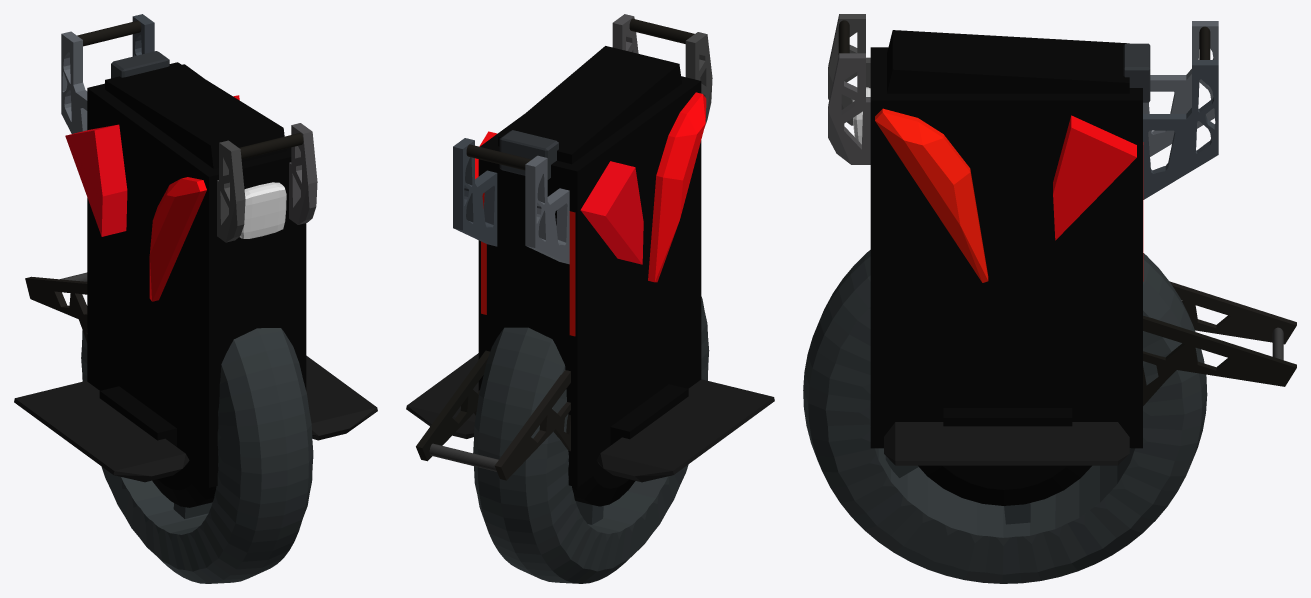
Rendered from lynx10 (2).glb.
3 renders of one model, left to right at view 1: azimuth 30°, elevation 25°; view 2: azimuth 150°, elevation 25°; view 3: azimuth 270°, elevation 25°, orthographic. The views are drawn at different scales.
Visible parts, largest first — view 1: Куб, Wheel, Куб.001, Куб.018, Куб.022, Куб.024, Куб.021, Куб.007, Куб.006, Куб.004, Headlight, Куб.008 (+5 smaller); view 2: Куб, Wheel, Куб.001, Куб.018, Куб.024, Куб.022, Куб.004, Куб.002, Куб.008, Куб.009, Куб.021, Куб.019 (+7 smaller); view 3: Куб, Wheel, Куб.001, Куб.021, Куб.025, Куб.023, Куб.009, Куб.002, Куб.006, Куб.008, Куб.004, Куб.020 (+2 smaller).
Part boxes in pixels (bbox=[...]): Куб: bbox=[87, 64, 306, 487]; Wheel: bbox=[81, 306, 313, 583]; Куб.001: bbox=[105, 62, 286, 168]; Куб.018: bbox=[14, 381, 189, 482]; Куб.022: bbox=[65, 124, 127, 236]; Куб.024: bbox=[149, 177, 206, 301]; Куб.021: bbox=[306, 355, 377, 440]; Куб.007: bbox=[217, 140, 245, 242]; Куб.006: bbox=[289, 123, 317, 224]; Куб.004: bbox=[61, 31, 87, 133]; Headlight: bbox=[240, 182, 286, 238]; Куб.008: bbox=[25, 276, 87, 342]; Куб: bbox=[478, 76, 701, 487]; Wheel: bbox=[473, 296, 709, 583]; Куб.001: bbox=[498, 46, 681, 164]; Куб.018: bbox=[596, 379, 774, 482]; Куб.024: bbox=[648, 92, 706, 282]; Куб.022: bbox=[580, 161, 643, 264]; Куб.004: bbox=[525, 155, 569, 264]; Куб.002: bbox=[453, 138, 497, 246]; Куб.008: bbox=[495, 370, 570, 480]; Куб.009: bbox=[416, 350, 489, 461]; Куб.021: bbox=[406, 353, 478, 438]; Куб.019: bbox=[610, 384, 688, 445]; Куб: bbox=[870, 47, 1142, 448]; Wheel: bbox=[803, 250, 1207, 583]; Куб.001: bbox=[887, 30, 1129, 93]; Куб.021: bbox=[884, 422, 1129, 465]; Куб.025: bbox=[875, 108, 988, 282]; Куб.023: bbox=[1053, 115, 1136, 240]; Куб.009: bbox=[1143, 315, 1296, 405]; Куб.002: bbox=[1143, 60, 1218, 199]; Куб.006: bbox=[828, 53, 870, 164]; Куб.008: bbox=[1169, 281, 1296, 344]; Куб.004: bbox=[1143, 21, 1218, 156]; Куб.020: bbox=[943, 408, 1072, 426].
Bounding box in the file's own units: 2.51 × 4.37 × 3.63.
